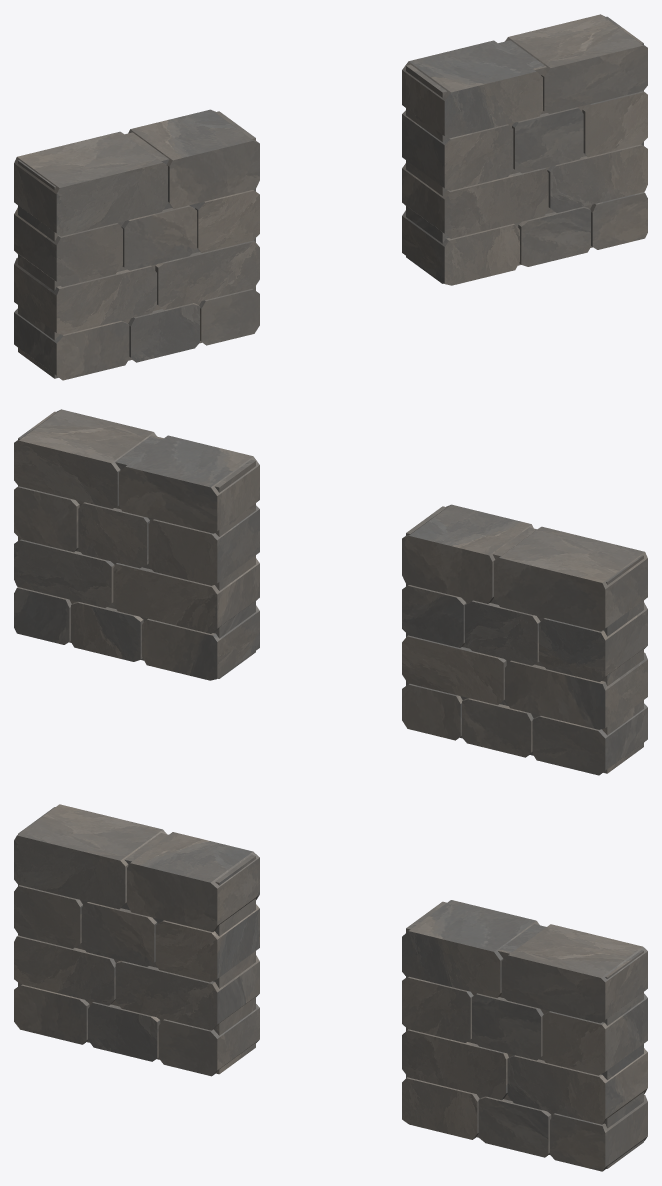
The model's file is S12_EmptyGateBay_4x1.25x0.50_UV2.fbx.
3 renders of one model, top to bottom at view 1: azimuth 30°, elevation 25°; view 2: azimuth 150°, elevation 25°; view 3: azimuth 330°, elevation 25°, orthographic.
Parts seen in each view (by area): view 1: S12_Export_UV2; view 2: S12_Export_UV2; view 3: S12_Export_UV2.
Part boxes in pixels (x1=…): S12_Export_UV2: x1=14, y1=14, x2=647, y2=380; S12_Export_UV2: x1=14, y1=409, x2=647, y2=775; S12_Export_UV2: x1=14, y1=804, x2=647, y2=1171.
Size of the model in its own units: 4 by 1.25 by 0.5.
